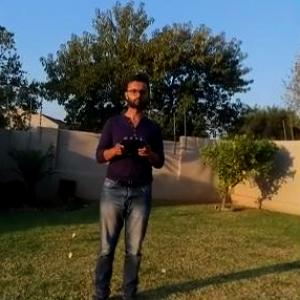follow: (90, 69, 174, 299)
